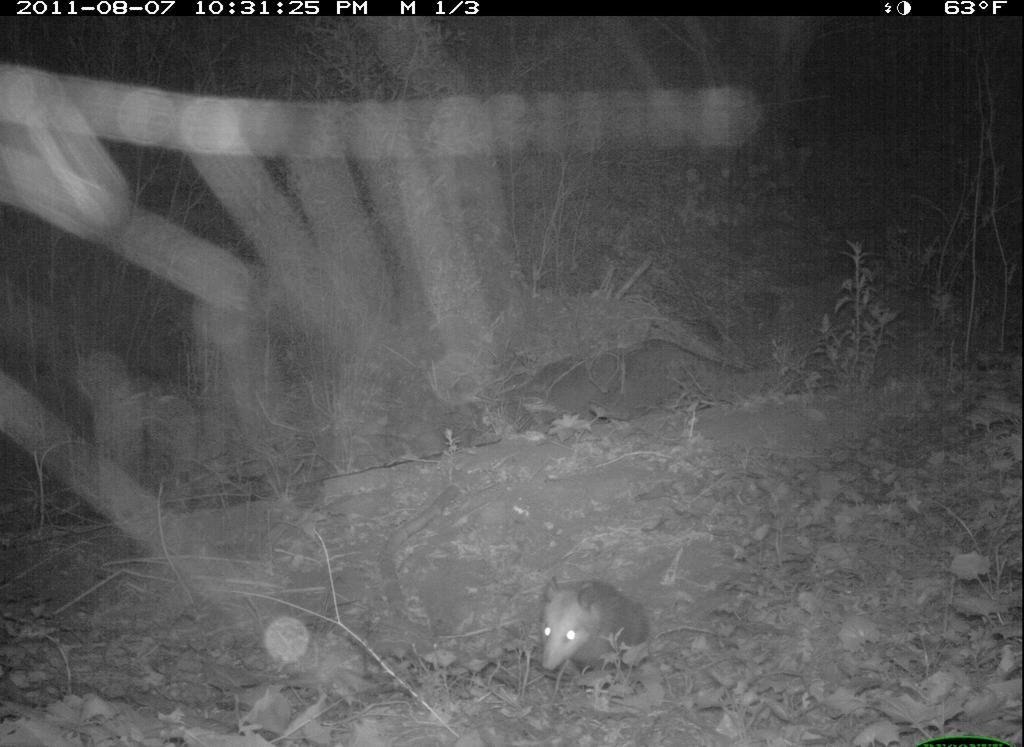opossum: (532, 560, 671, 676)
